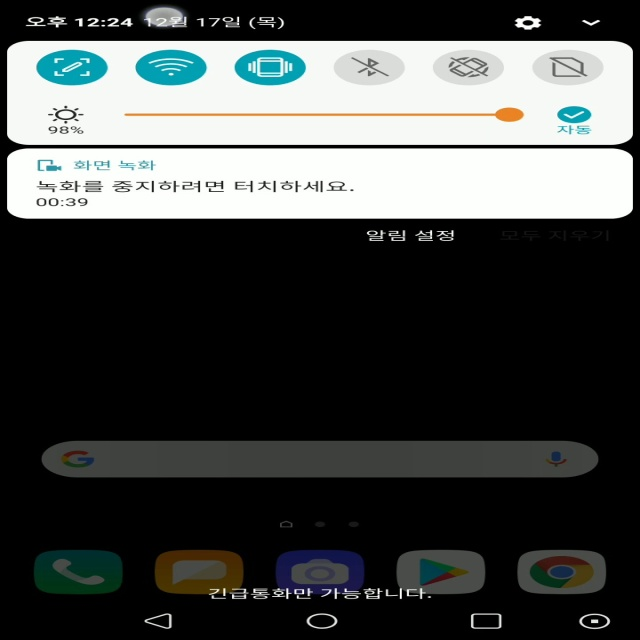Cursor: (142, 8, 186, 30)
